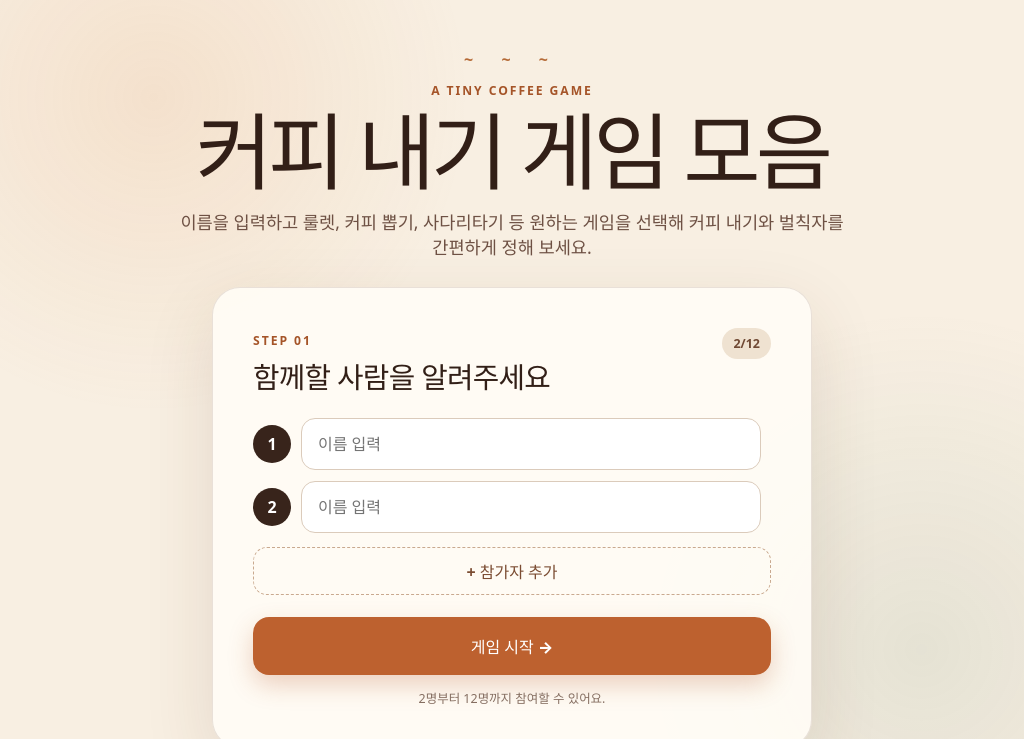
Test: App › moves to game selection after submitting valid names
Type "Mina" into the 1st field with placeholder "이름 입력" at (531, 444), box [301,418,761,470]
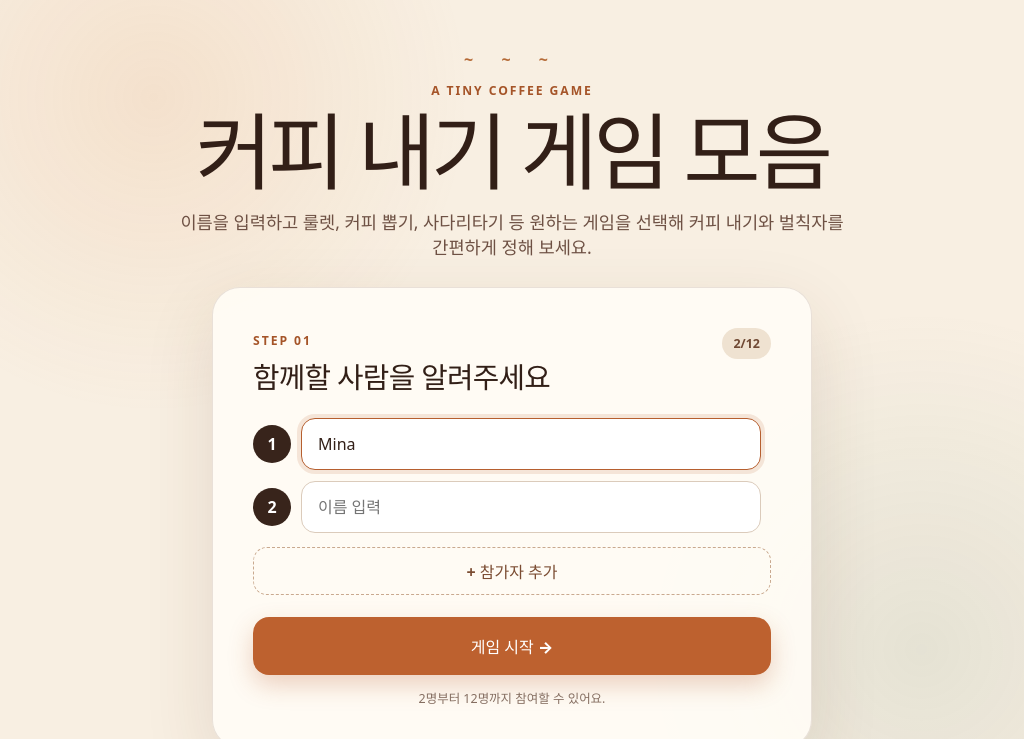
Type "Joon" into the field with placeholder "이름 입력" at (531, 507), box [301,481,761,533]
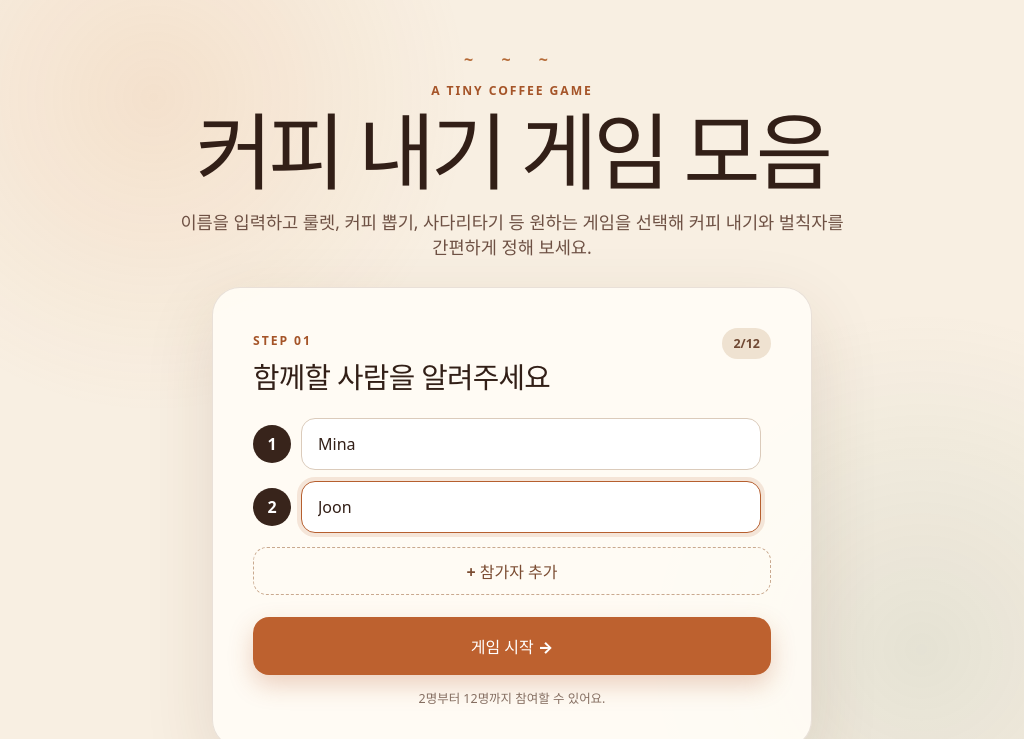
Click the button "게임 시작 →" at (512, 646), box [253,617,771,675]
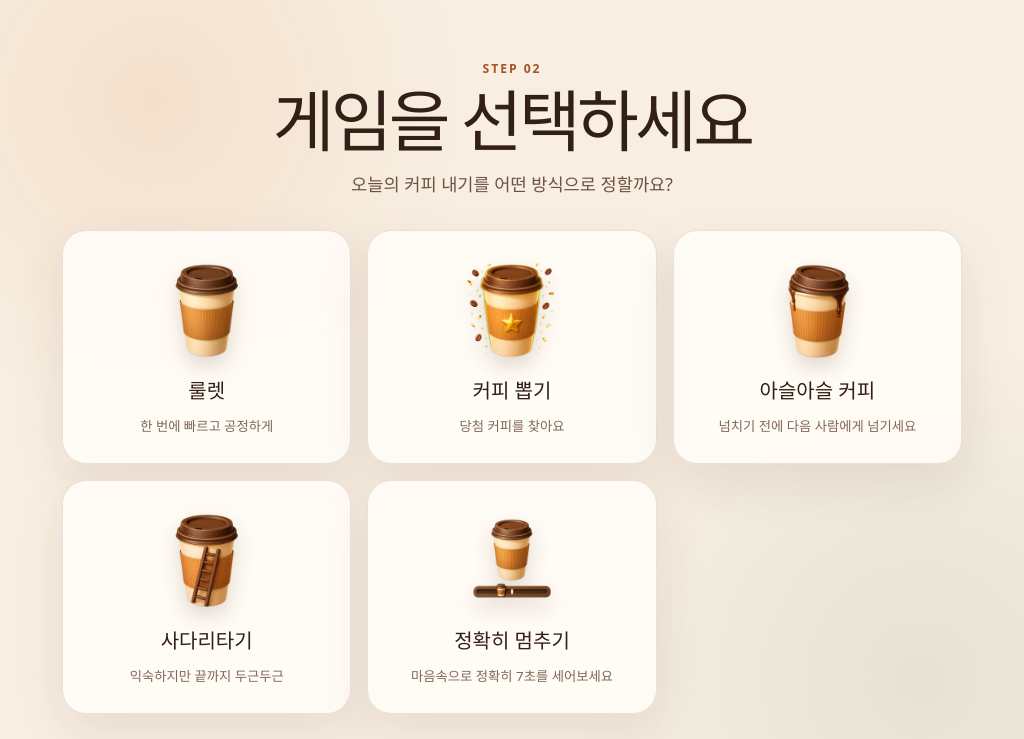
Check: the heading "게임을 선택하세요" is shown, box [273,74,751,166]
Check: the button "룰렛 한 번에 빠르고 공정하게" is shown, box [62,230,351,464]
Check: the button "정확히 멈추기 마음속으로 정확히 7초를 세어보세요" is shown, box [367,480,657,714]
